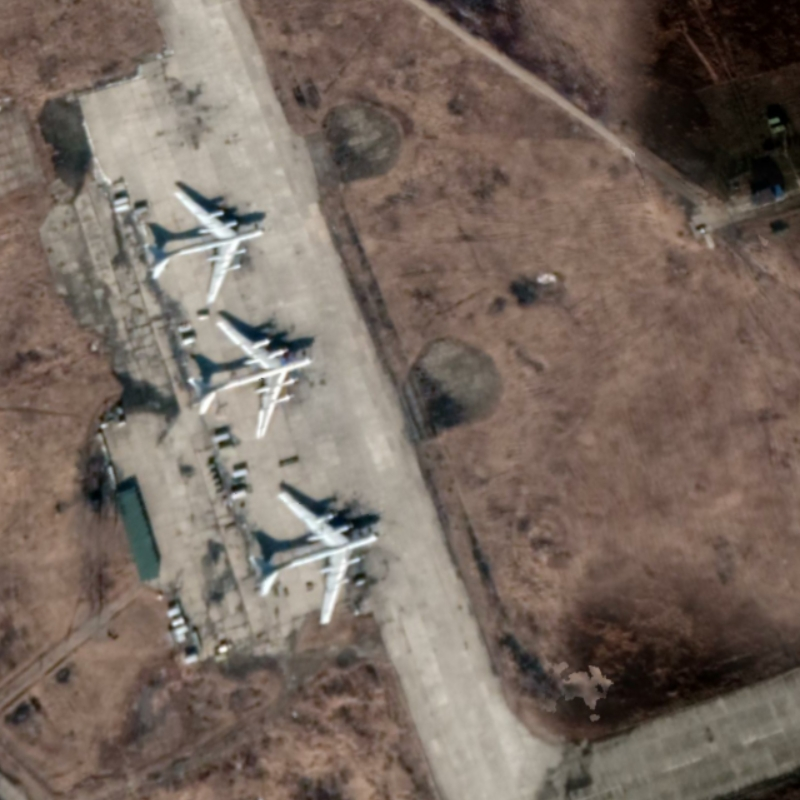A17: (246, 490, 381, 627), (185, 319, 314, 441), (142, 189, 267, 308)
